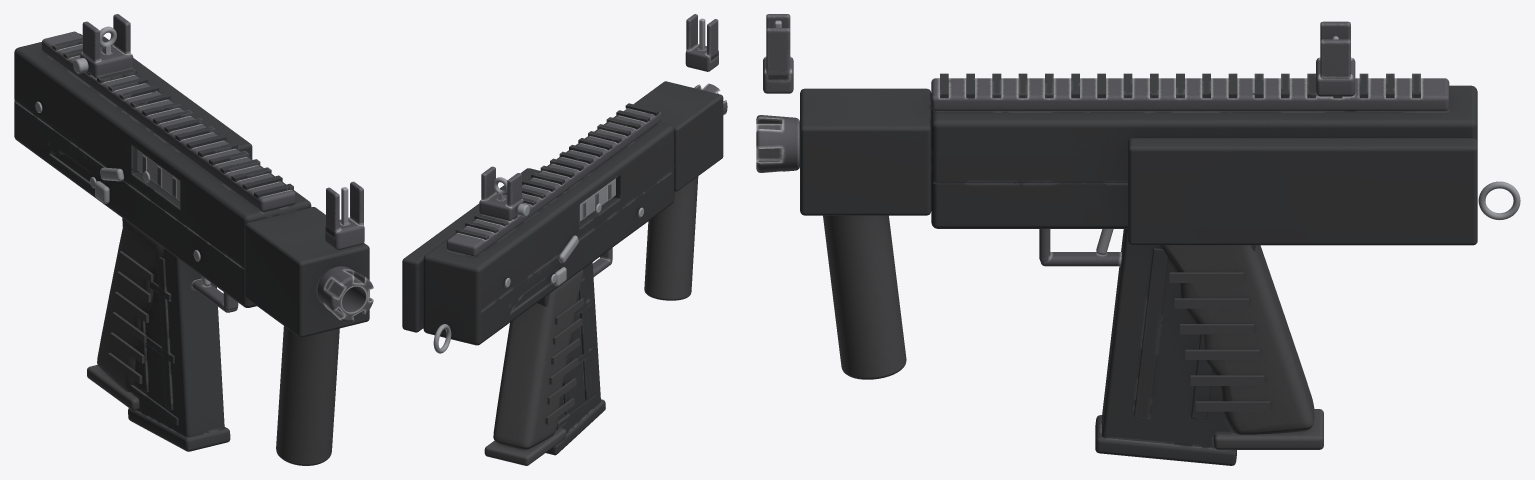
3 renders of one model, left to right at view 1: azimuth 30°, elevation 25°; view 2: azimuth 150°, elevation 25°; view 3: azimuth 270°, elevation 25°, orthographic. The views are drawn at different scales.
Parts seen in each view (by area): view 1: mp9; view 2: mp9; view 3: mp9.
Boxes of the visible parts, x1,y1,x2,y2 form: mp9: (14, 14, 373, 465); mp9: (402, 14, 727, 465); mp9: (756, 14, 1520, 465).
Bounding box in the file's own units: 0.0609 × 0.2186 × 0.3496.
